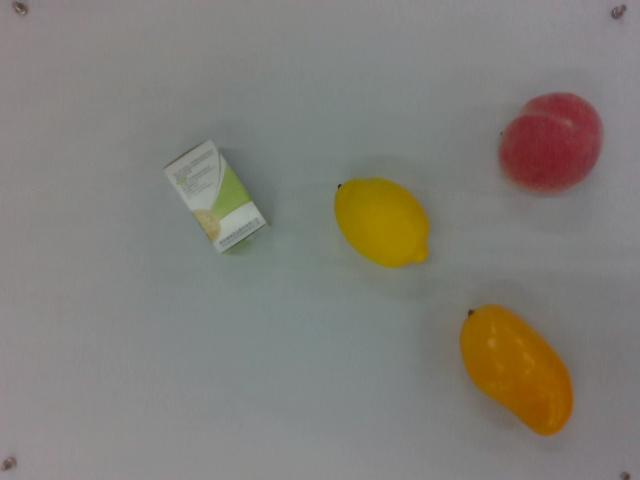carton: (163, 136, 269, 255)
lemon: (333, 173, 437, 273)
mango: (462, 303, 575, 440)
peach: (495, 87, 607, 194)
